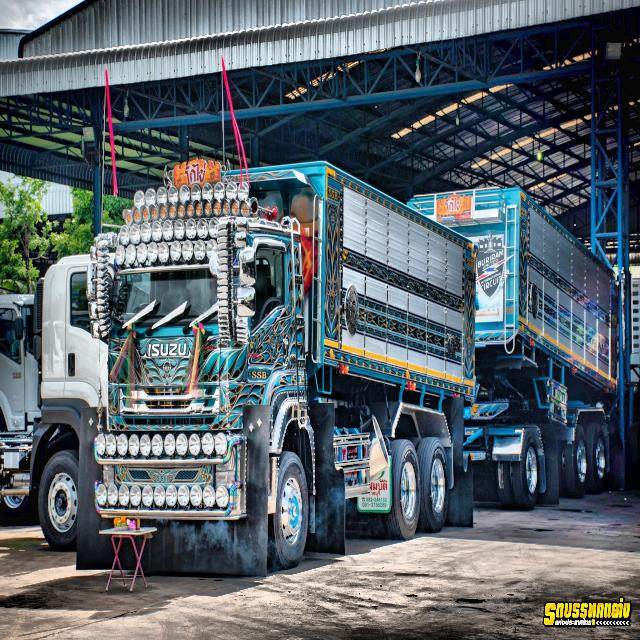trailer: (96, 147, 640, 564)
